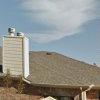Chimney: (3, 20, 37, 86)
